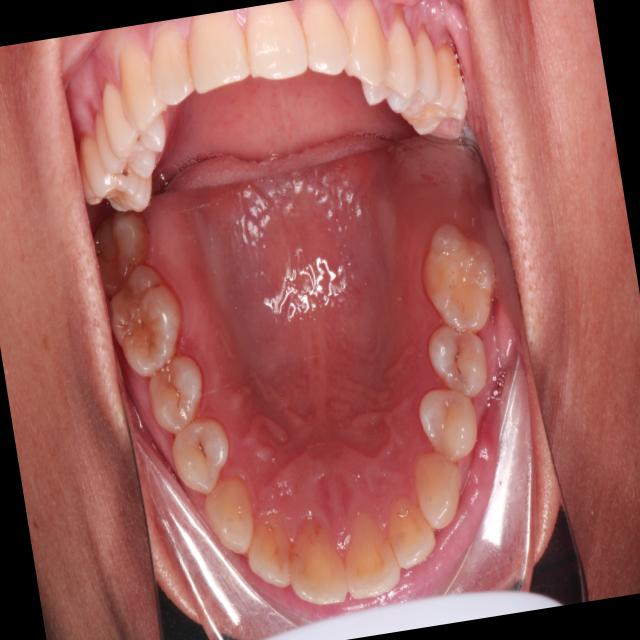tooth: (406, 211, 510, 343), (96, 253, 195, 390), (274, 503, 354, 618), (86, 203, 165, 306), (335, 501, 407, 609), (162, 409, 240, 505), (420, 313, 498, 409), (139, 345, 215, 443), (410, 377, 489, 471), (404, 438, 473, 540), (197, 473, 263, 565), (237, 505, 301, 598), (380, 484, 443, 575)
